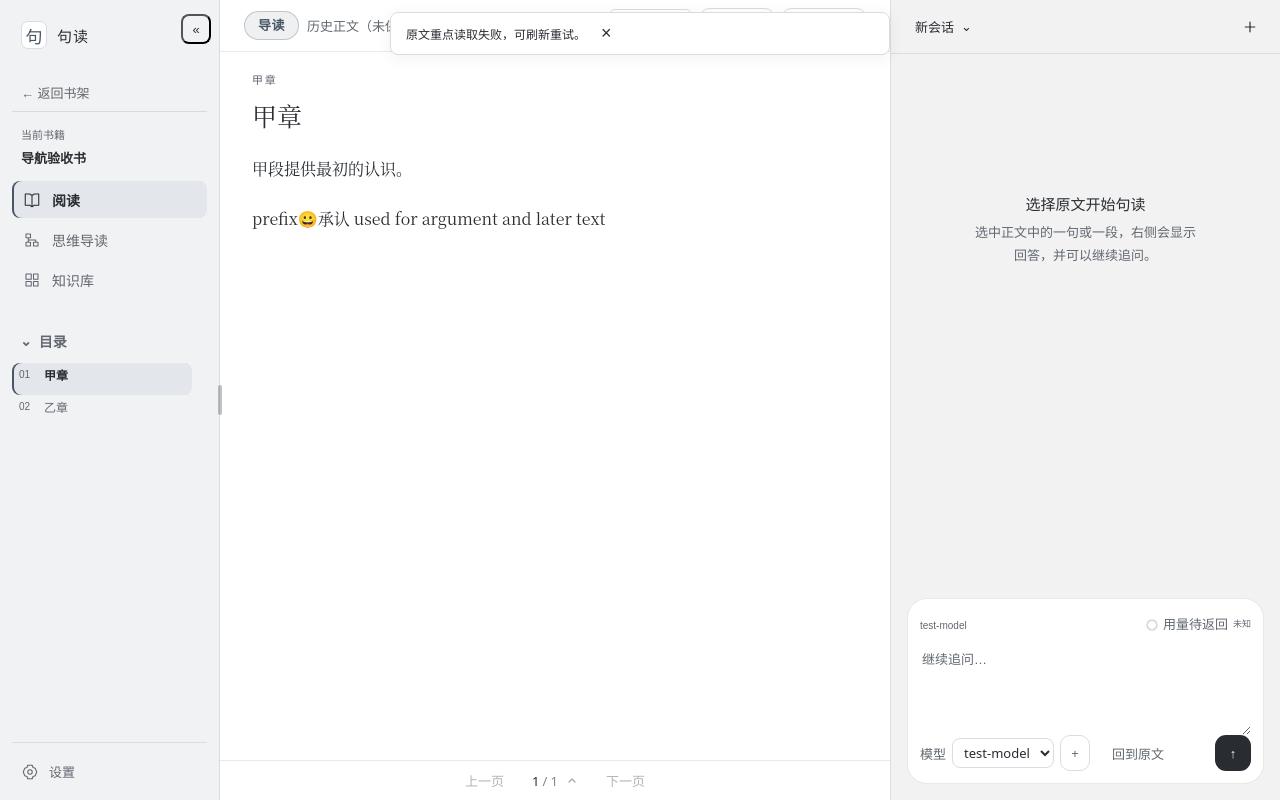
页面锁定前ID校验 › 坏的缓存会话不会进入加载锁，仍可选择正确旧会话
This screenshot has width=1280, height=800.
Click the button with aria-label "切换会话": (943, 26) [907,10,980,43]
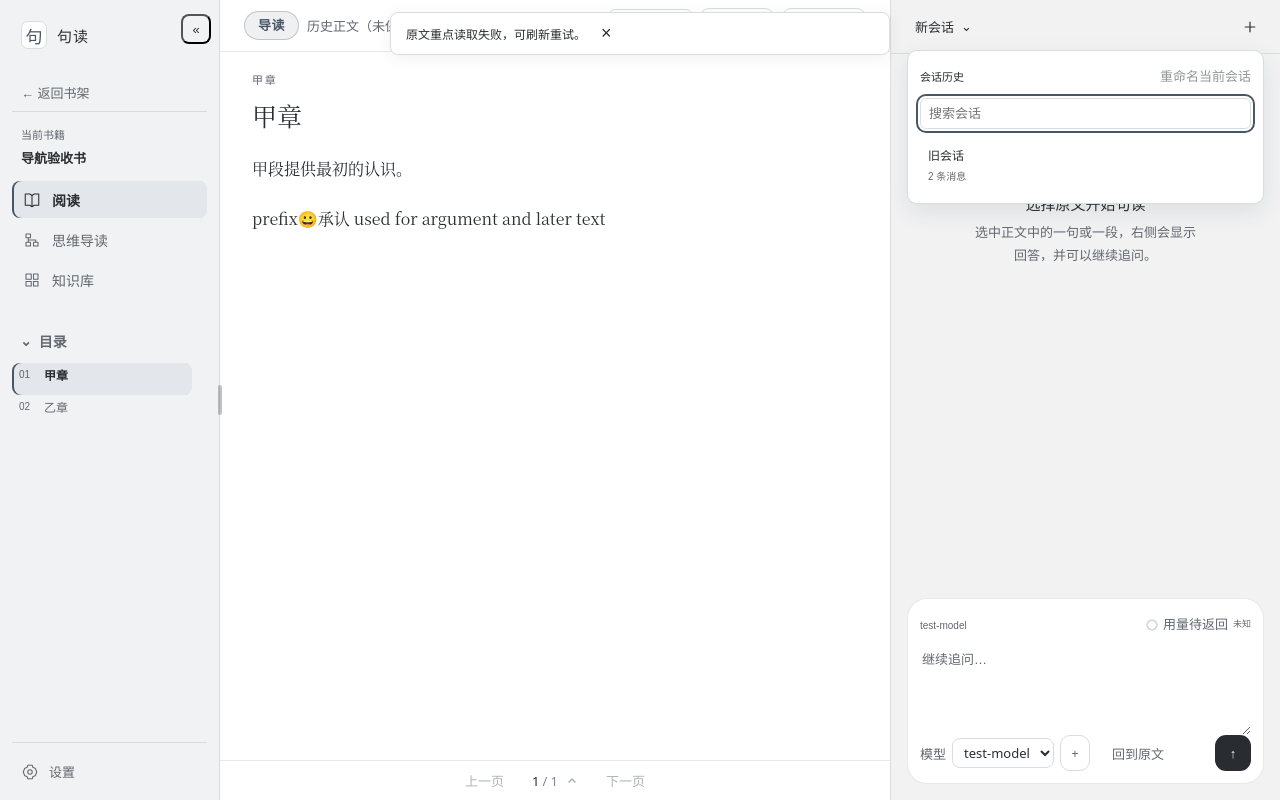
Click the button "旧会话 2 条消息": (946, 156) [920,139,1251,191]
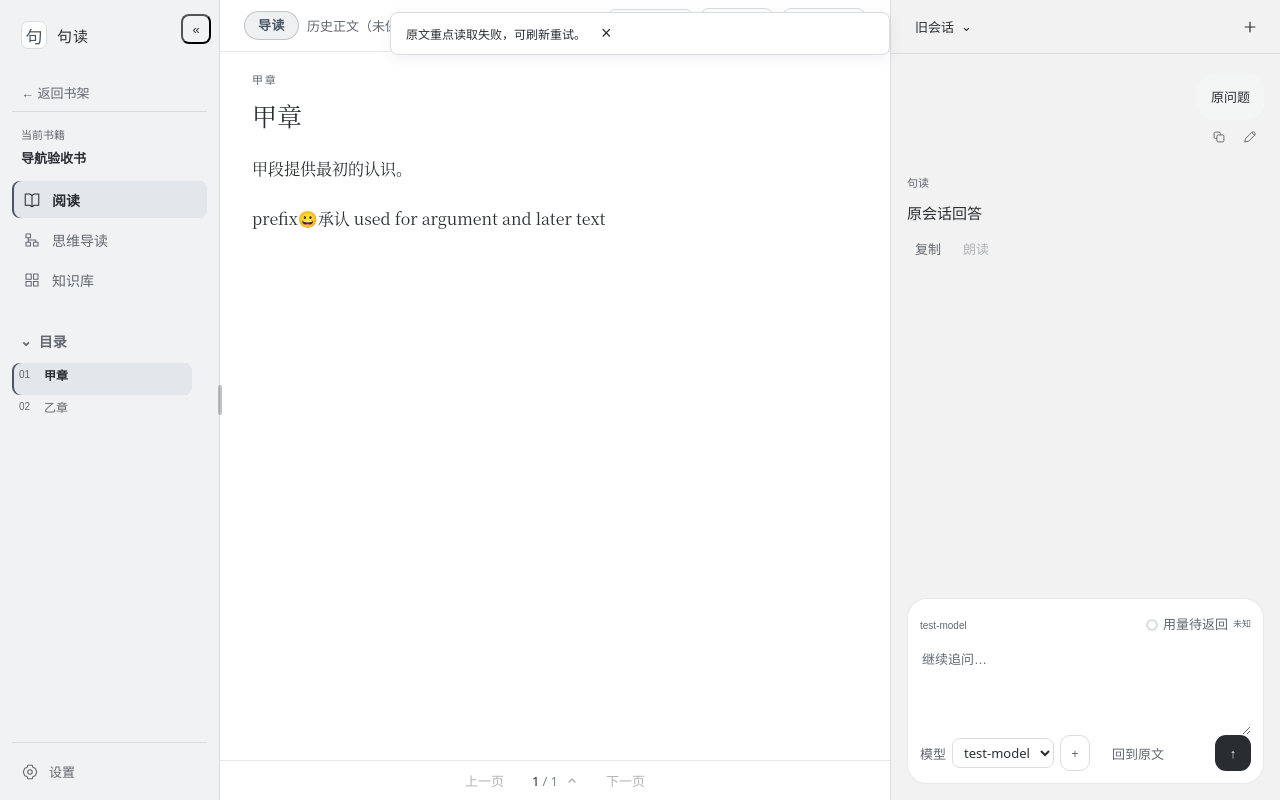
Check: the element showing "句读 原会话回答 复制 朗读" is shown, box [907,175,997,263]
